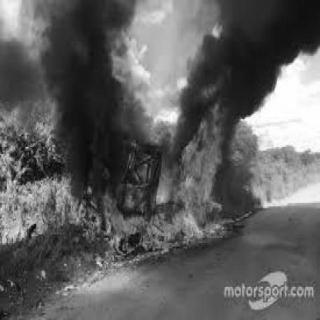Fire: (97, 88, 229, 251)
Smoke: (13, 2, 123, 182)
